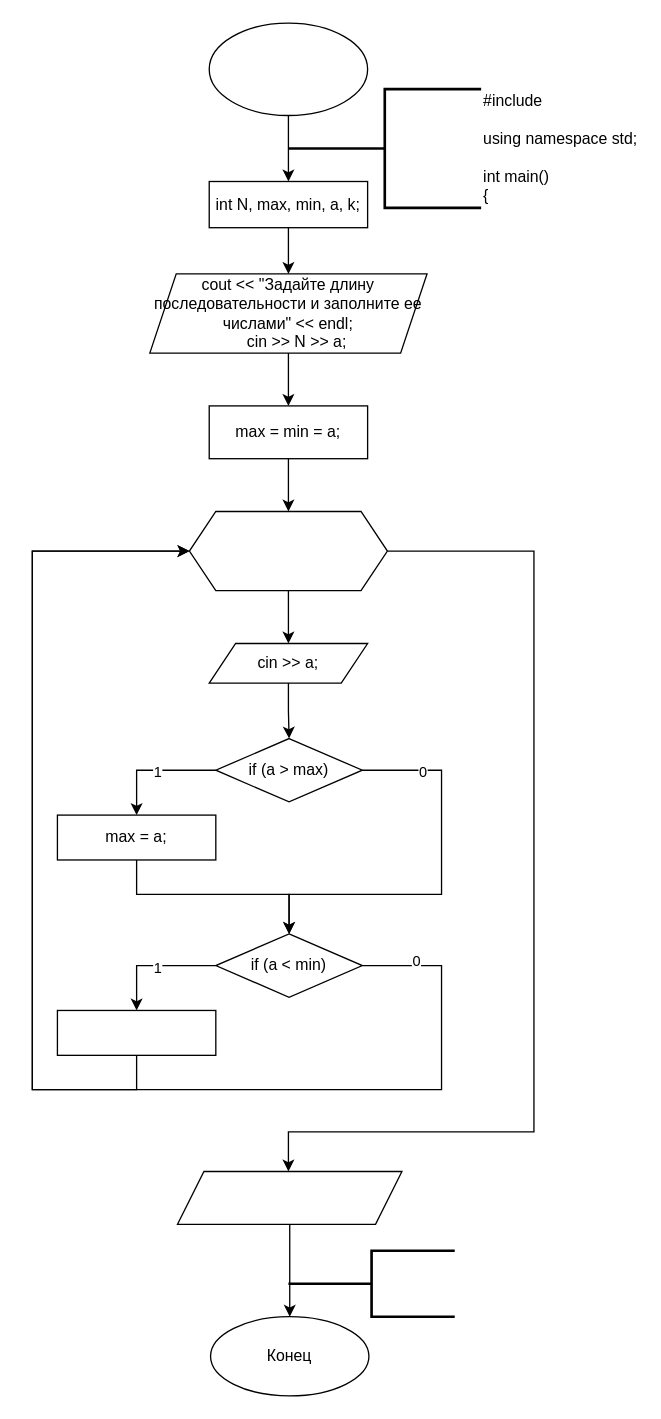
Image size: 661x1419. Some labels were removed from this diagram. The centre of each missing label's shape, as x and y in pixels:
"cout << max + min << endl;" belongs at [289,1197].
"for (int i = 0; i <= N-2; i++)" belongs at [287,550].
"min = a;" belongs at [136,1032].
"return 0; }" belongs at [370,1283].
"Запуск" belongs at [288,69].
